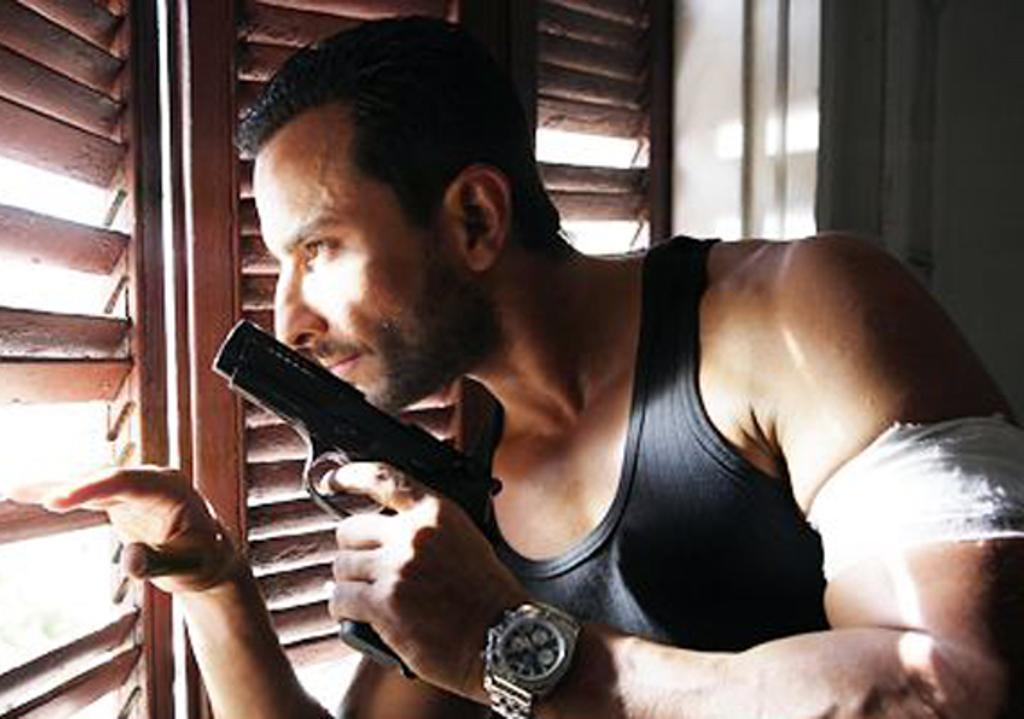face: (254, 116, 448, 416)
